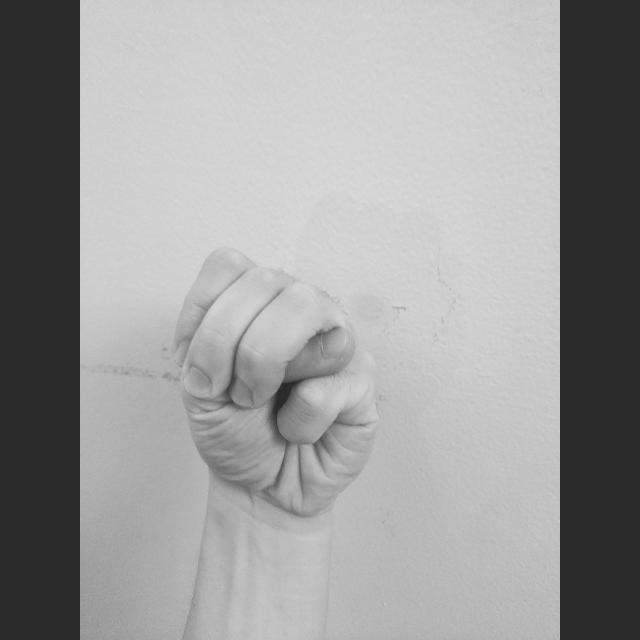M: (168, 242, 384, 524)
